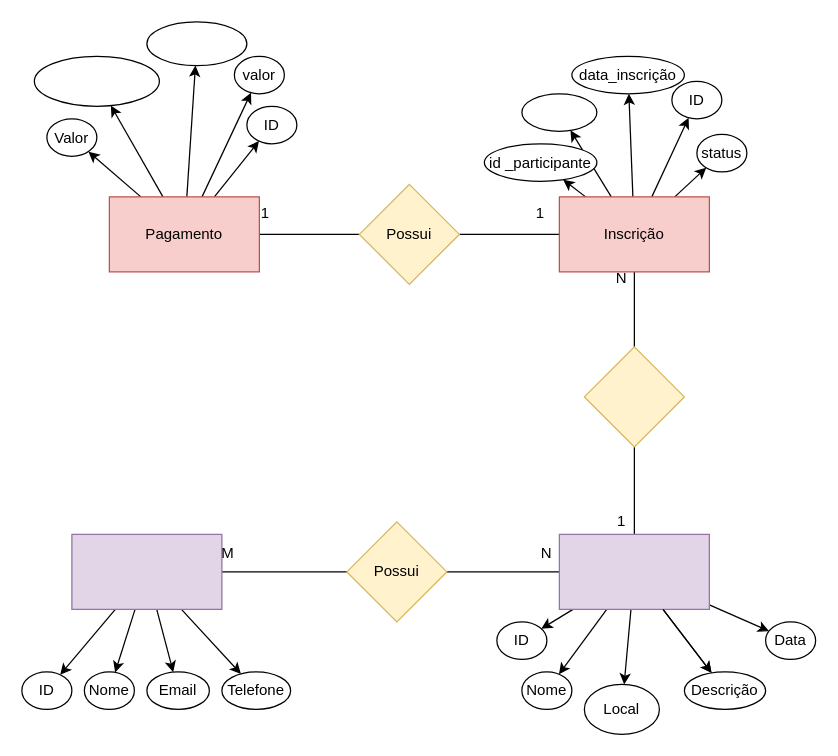
Image size: 838x756. Some labels were removed from this diagram. The shapes that lost their labels are listed below. From the top down, each one's box as (x1, y1, x2, y2) in pixels, then its label:
(146, 21, 247, 66): id_Inscrição
(33, 55, 159, 106): data_pagamento
(521, 92, 597, 131): id_evento
(583, 346, 684, 447): Pertence
(71, 533, 222, 609): Participante
(558, 533, 709, 609): Evento
